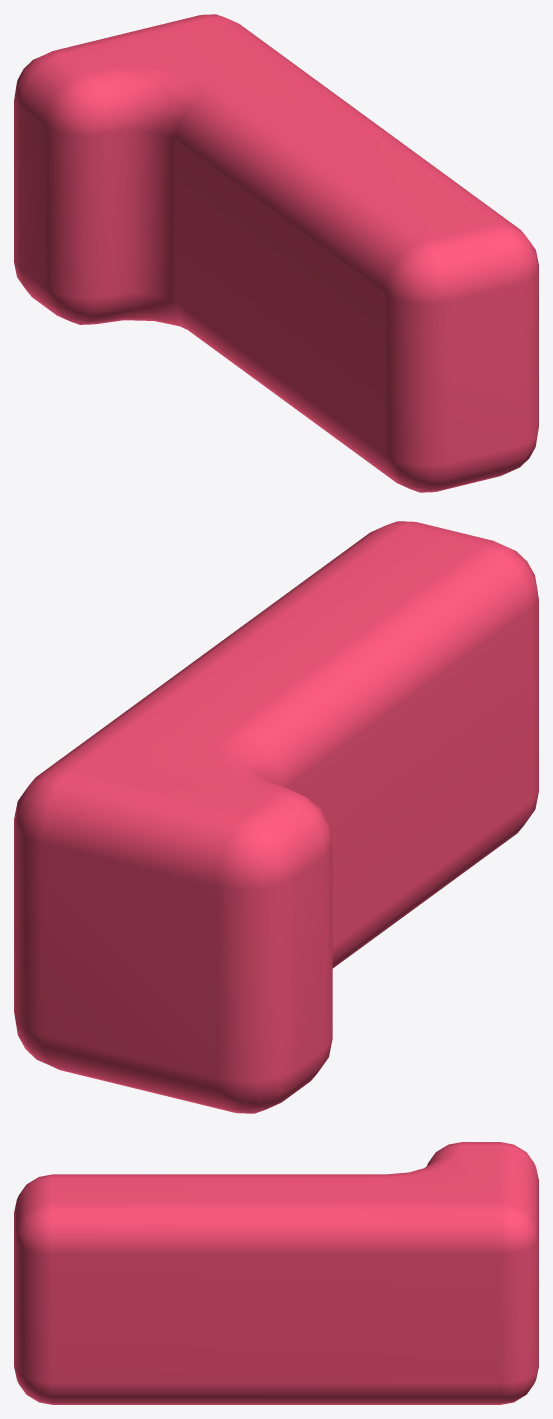
The model's file is One.fbx.
3 renders of one model, top to bottom at view 1: azimuth 30°, elevation 25°; view 2: azimuth 150°, elevation 25°; view 3: azimuth 270°, elevation 25°, orthographic. The views are drawn at different scales.
Visible parts, largest first — view 1: polySurface1; view 2: polySurface1; view 3: polySurface1.
Part boxes in pixels (left/top/right/bottom): polySurface1: left=14, top=14, right=538, bottom=492; polySurface1: left=14, top=521, right=538, bottom=1113; polySurface1: left=14, top=1142, right=538, bottom=1404.
Size of the model in its own units: 0.2356 by 0.2416 by 0.5806.
Materials: 1 (1 with a texture image).
